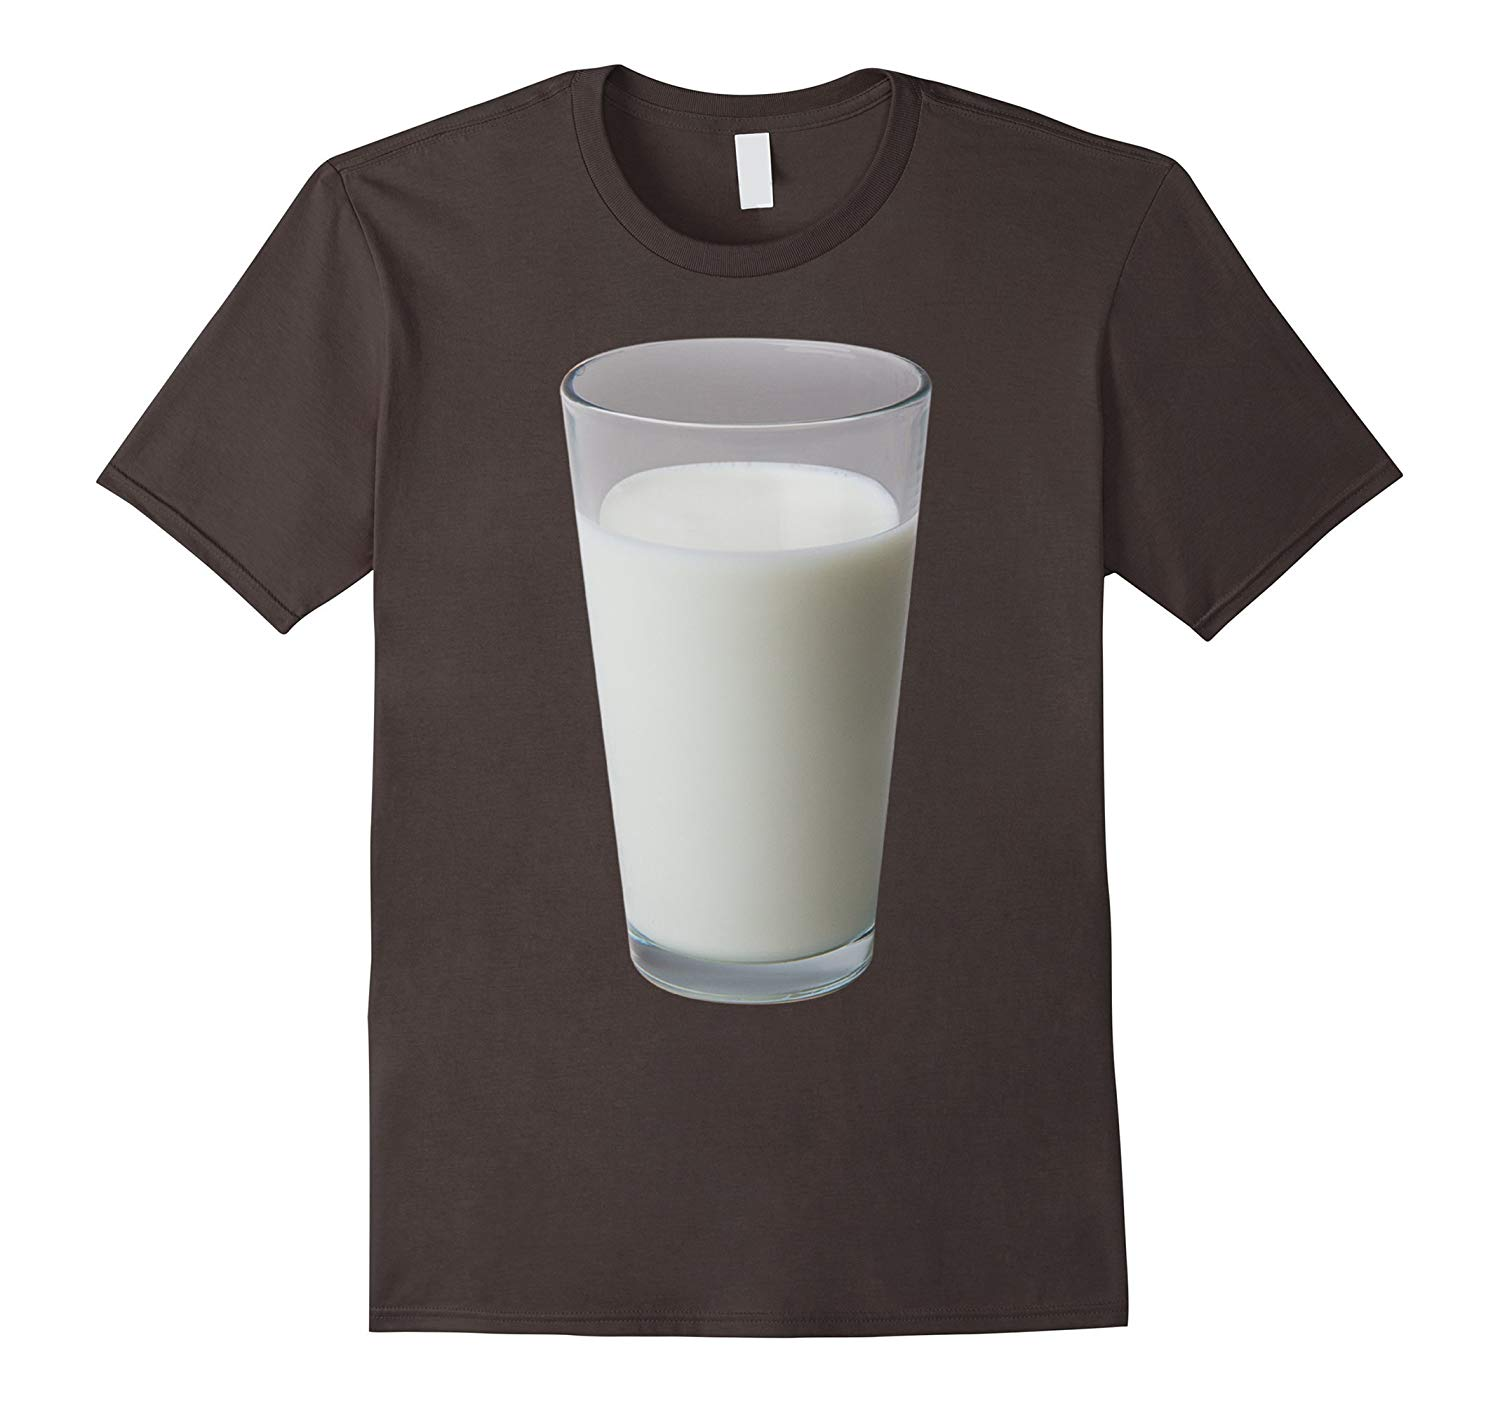glass of milk: (568, 349, 911, 993)
